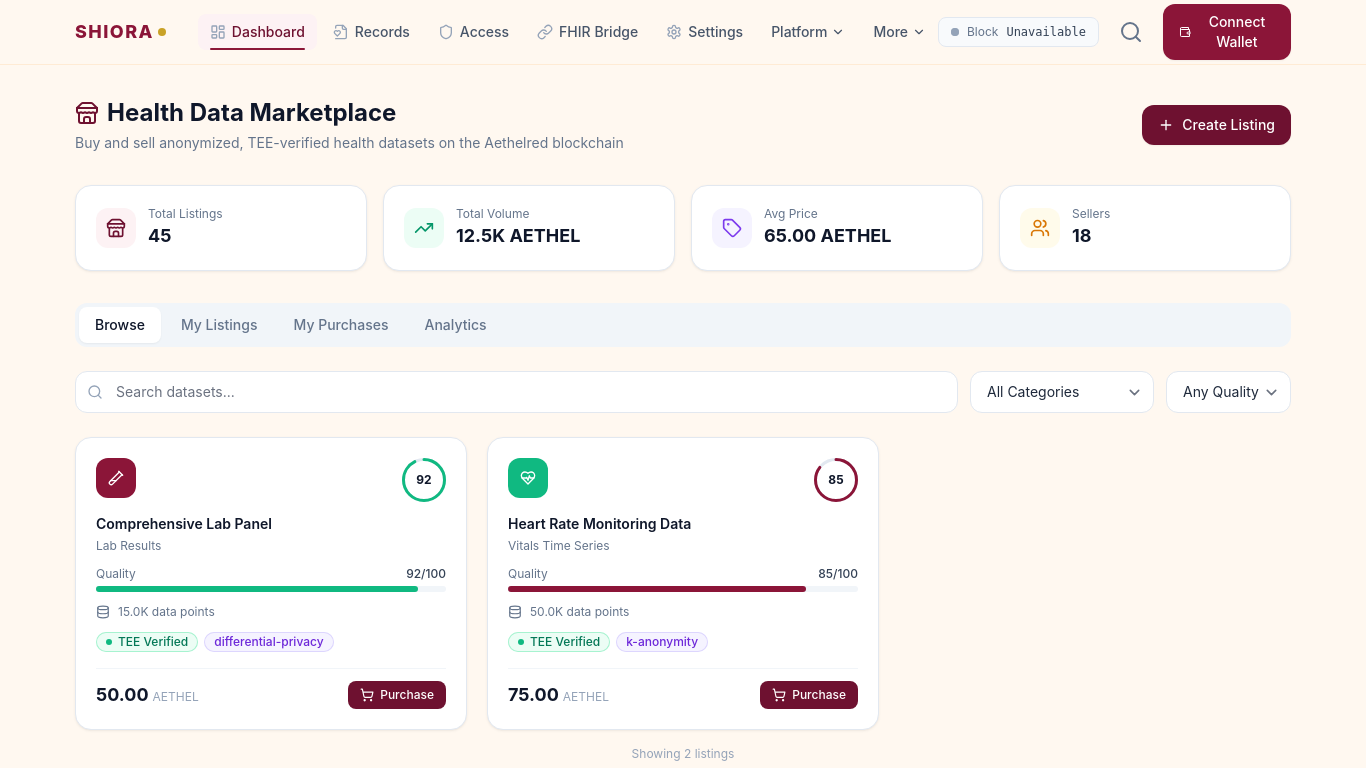
Test: MarketplacePage › shows empty state on My Purchases when purchases is empty
Click the tab "My Purchases": {"x": 341, "y": 325} [278,307,404,343]
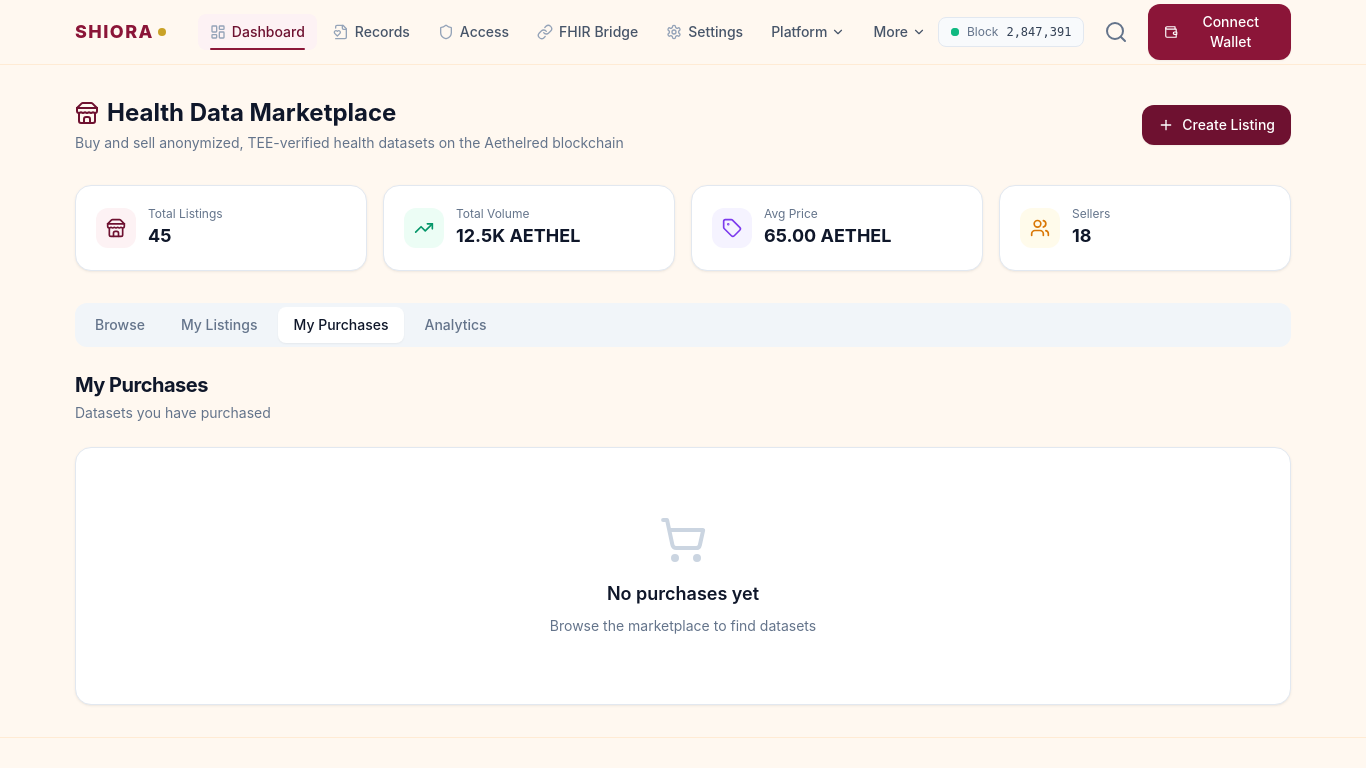
expect the heading "No purchases yet" is shown: met, box [607,583,759,604]
